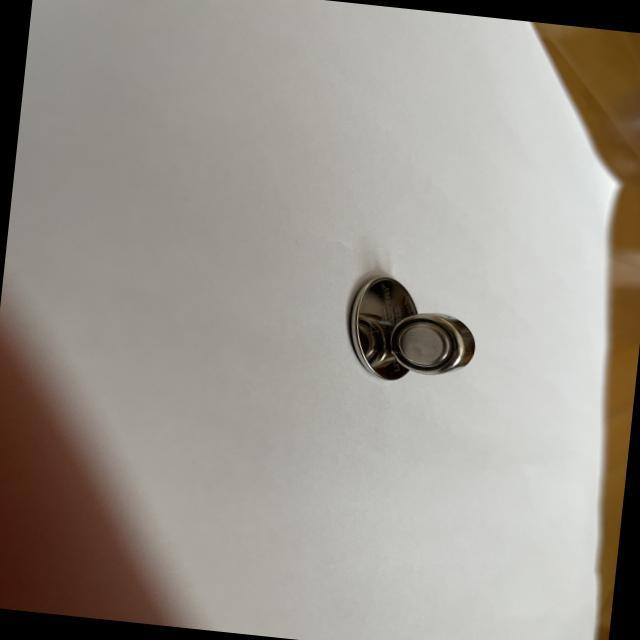COIN: (344, 274, 427, 382), (388, 307, 474, 379)
